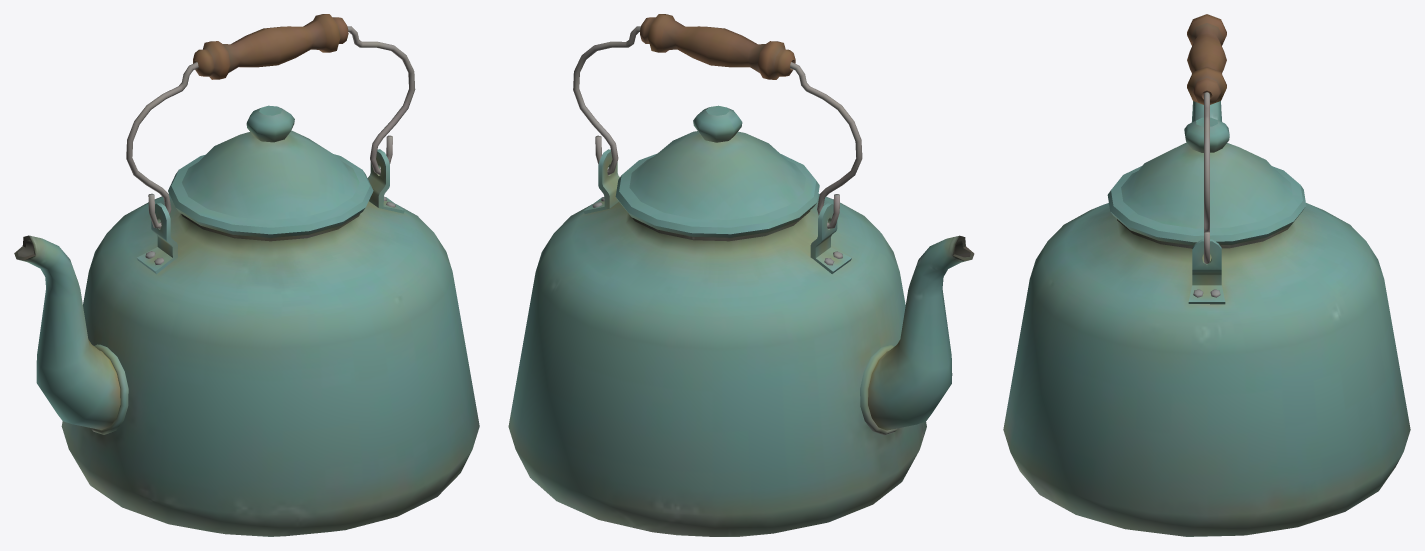
File: coci_vintage_kettle.glb
3 renders of one model, left to right at view 1: azimuth 30°, elevation 25°; view 2: azimuth 150°, elevation 25°; view 3: azimuth 270°, elevation 25°, orthographic. The views are drawn at different scales.
Parts seen in each view (by area): view 1: Bracing_Low_Checker_0; view 2: Bracing_Low_Checker_0; view 3: Bracing_Low_Checker_0.
Boxes of the visible parts, left/top/right/bottom form: Bracing_Low_Checker_0: left=14, top=14, right=479, bottom=536; Bracing_Low_Checker_0: left=508, top=14, right=974, bottom=536; Bracing_Low_Checker_0: left=1003, top=14, right=1410, bottom=536.
Size of the model in its own units: 0.2573 by 0.25 by 0.214.
1 material, 1 textured.
